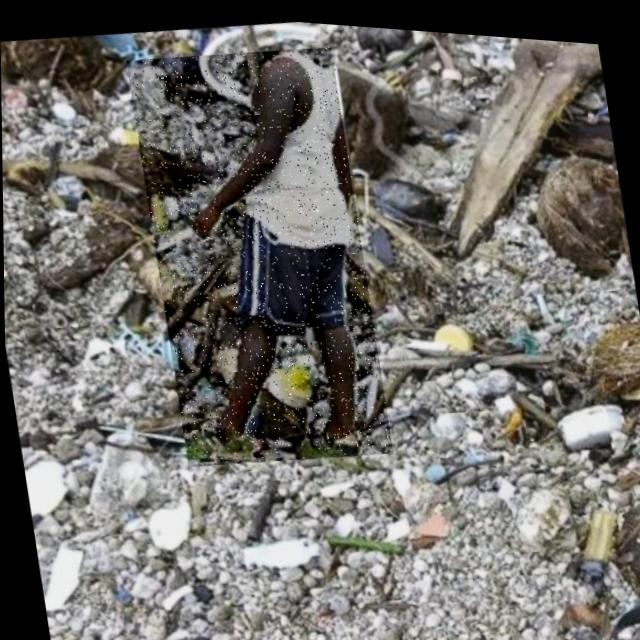Person in Rubble: (127, 30, 394, 476)
